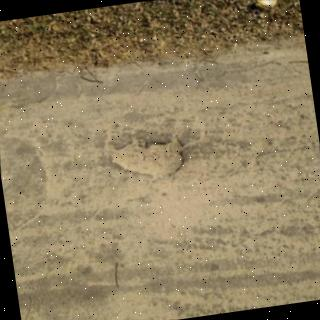pothole: (112, 136, 185, 177)
